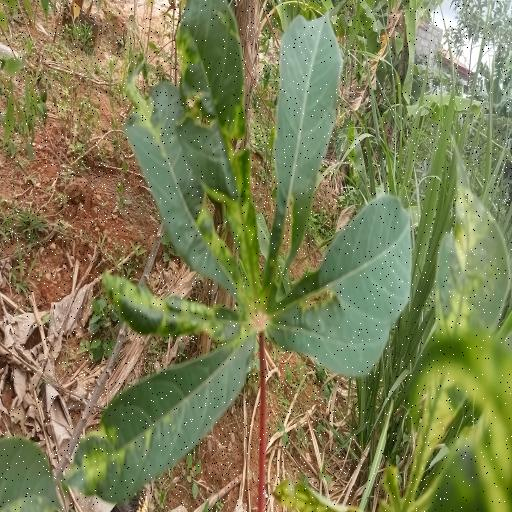Cassava_Root_Rot: (63, 2, 419, 500)
